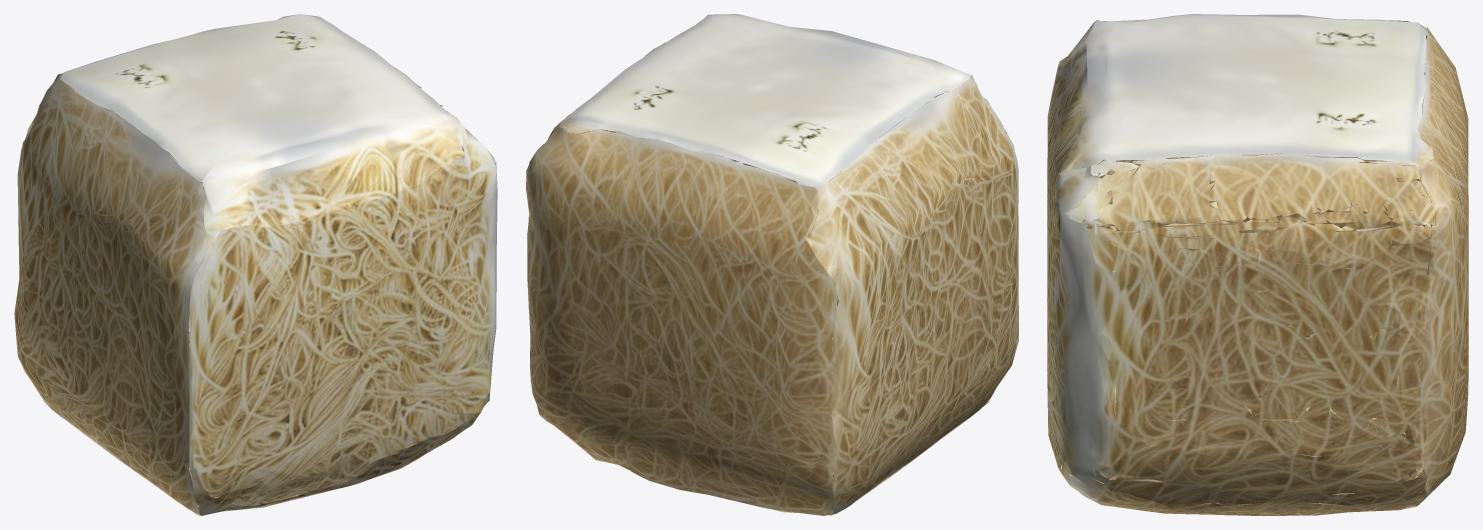
The model's file is yellow noodle square.fbx.
3 views of the same model, side by side, from view 1: azimuth 30°, elevation 25°; view 2: azimuth 150°, elevation 25°; view 3: azimuth 270°, elevation 25° (orthographic). The views are drawn at different scales.
Parts seen in each view (by area): view 1: yellow noodle square; view 2: yellow noodle square; view 3: yellow noodle square.
Boxes of the visible parts, <box> form: yellow noodle square: <box>14,14,497,515</box>; yellow noodle square: <box>526,14,1018,515</box>; yellow noodle square: <box>1047,14,1468,515</box>.
Bounding box in the file's own units: 196 × 196 × 196.
